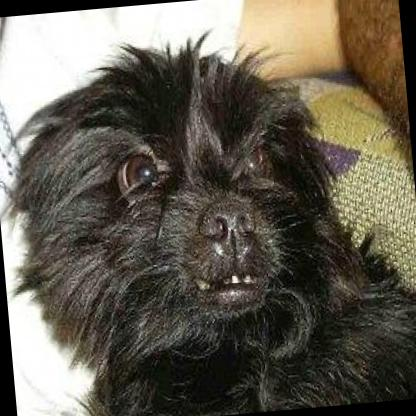affenpinscher: (0, 6, 416, 416)
